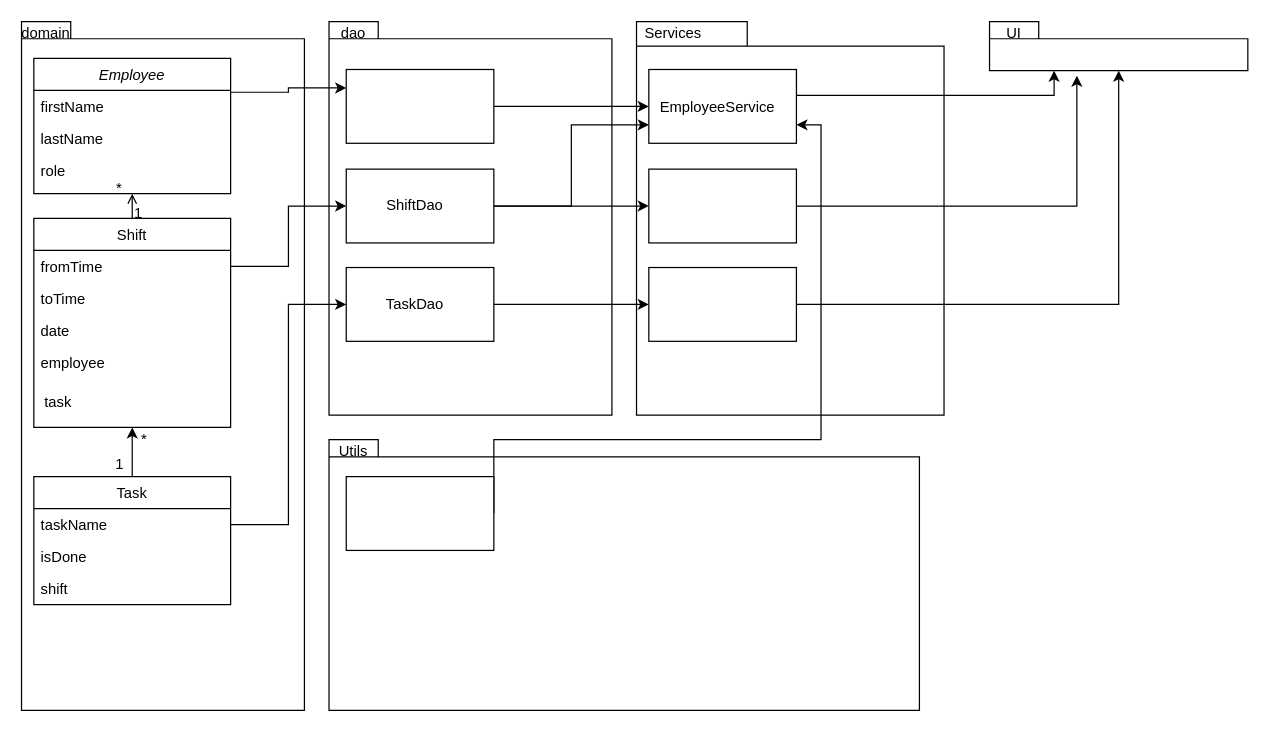
Image size: 1269x732. Some labels were removed from this diagram. The centre of each missing label's shape, as x and y in pixels:
Conversions: the point at 419,512
EmployeeDao: the point at 419,105
ShiftService: the point at 722,205
TaskService: the point at 722,303
